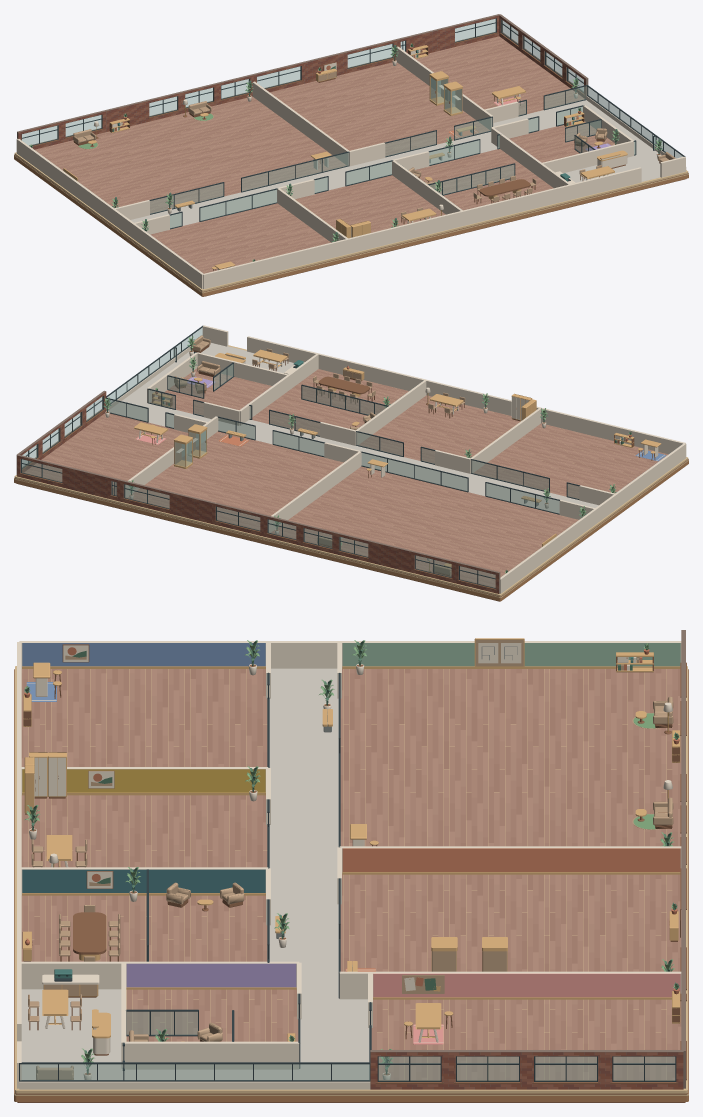
File: env_office_v1.glb
3 views of the same model, one above another, from view 1: azimuth 30°, elevation 25°; view 2: azimuth 150°, elevation 25°; view 3: azimuth 270°, elevation 25° (orthographic). The views are drawn at different scales.
Parts seen in each view (by area): view 1: architecture, floor_consulting, floor_sales, floor_it, floor_marketing, floor_corridor, floor_finance, floor_management, Cut timber, Subfloor, floor_hr, floor_reception (+7 smaller); view 2: architecture, floor_consulting, floor_sales, floor_it, floor_corridor, floor_finance, floor_marketing, floor_management, Cut timber, floor_hr, Subfloor, Plywood lamina (+6 smaller); view 3: floor_consulting, architecture, floor_sales, floor_corridor, floor_it, floor_marketing, floor_finance, Subfloor, floor_management, floor_hr, accent_wall_sales, accent_wall_marketing (+22 smaller).
Part boxes in pixels (x1,y1,x2,y2): architecture: [16, 14, 686, 289]; floor_consulting: [34, 96, 346, 213]; floor_sales: [270, 62, 489, 155]; floor_it: [150, 203, 330, 273]; floor_marketing: [416, 36, 584, 115]; floor_corridor: [130, 100, 605, 227]; floor_finance: [295, 175, 445, 232]; floor_management: [415, 149, 553, 210]; Cut timber: [14, 156, 688, 296]; Subfloor: [14, 56, 688, 291]; floor_hr: [509, 121, 614, 162]; floor_reception: [563, 150, 661, 182]; architecture: [16, 325, 686, 593]; floor_consulting: [271, 466, 578, 587]; floor_sales: [127, 431, 343, 529]; floor_it: [473, 423, 668, 498]; floor_corridor: [108, 397, 598, 513]; floor_finance: [359, 395, 520, 463]; floor_marketing: [24, 413, 188, 494]; floor_management: [252, 369, 408, 435]; Cut timber: [14, 461, 688, 601]; floor_hr: [150, 368, 271, 415]; Subfloor: [14, 345, 688, 596]; Plywood lamina: [14, 459, 688, 597]; floor_consulting: [340, 669, 681, 846]; architecture: [17, 630, 686, 1089]; floor_sales: [340, 874, 681, 971]; floor_corridor: [269, 668, 369, 1079]; floor_it: [21, 669, 267, 766]; floor_marketing: [371, 999, 681, 1079]; floor_finance: [21, 795, 267, 867]; Subfloor: [15, 666, 687, 1093]; floor_management: [21, 895, 267, 961]; floor_hr: [126, 989, 298, 1041]; accent_wall_sales: [342, 848, 680, 871]; accent_wall_marketing: [373, 973, 680, 997].
Size of the model in its own units: 42.46 by 2.82 by 28.46.
